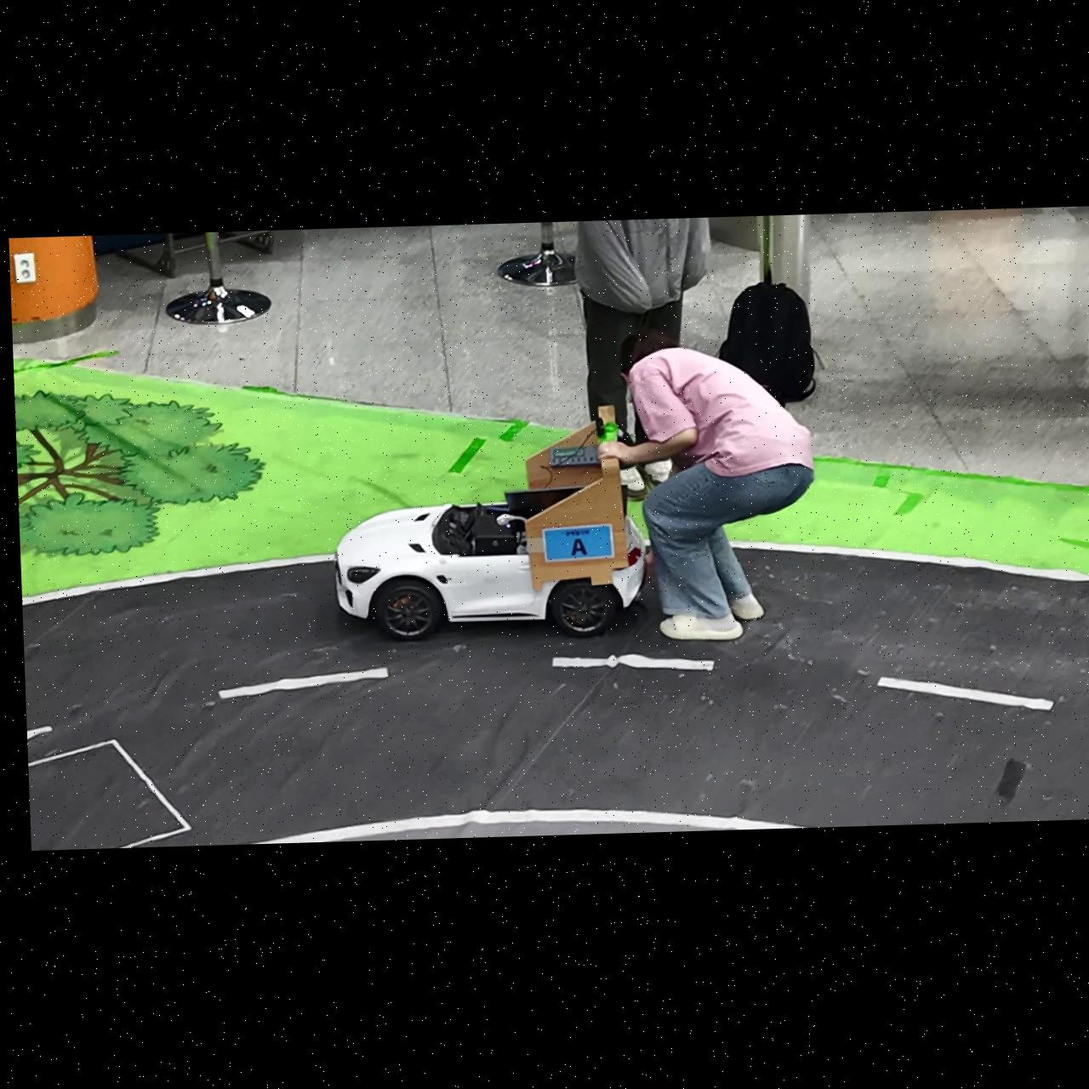broken_line: (878, 677, 1053, 711), (219, 668, 388, 699), (553, 655, 715, 671), (27, 726, 53, 740)
